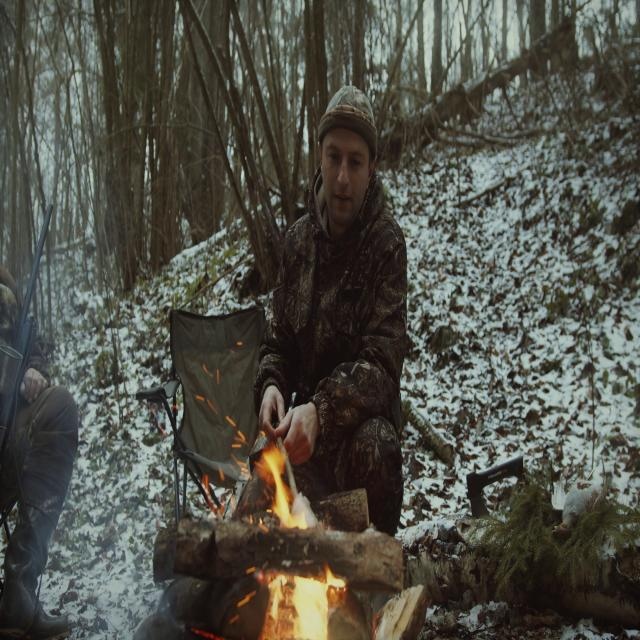Fire: (255, 450, 342, 640)
